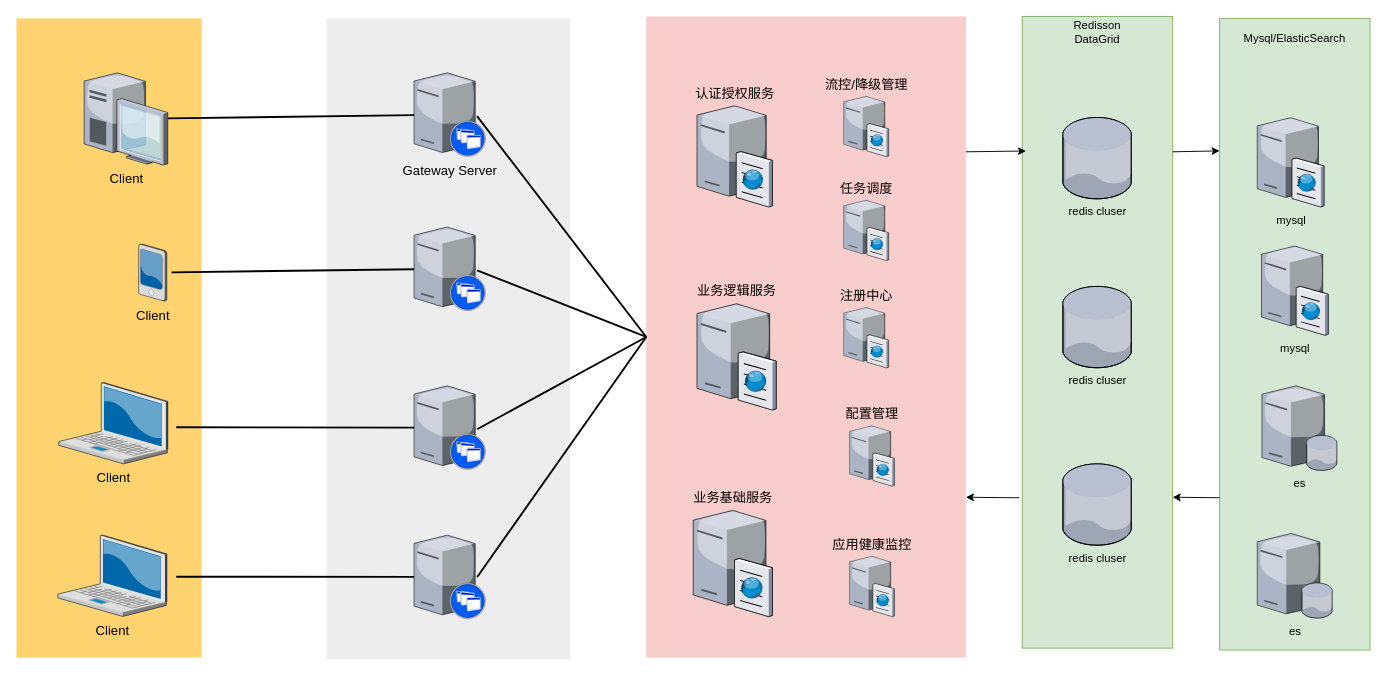
Image size: 1387x676. Some labels were removed from this diagram. Here are the shapes that lost their labels. From the top down, the box of each, then its label:
(16, 18, 201, 657): 终端
(326, 18, 570, 659): 网关（Spring Cloud Gateway）
(646, 16, 965, 657): 系统服务层
